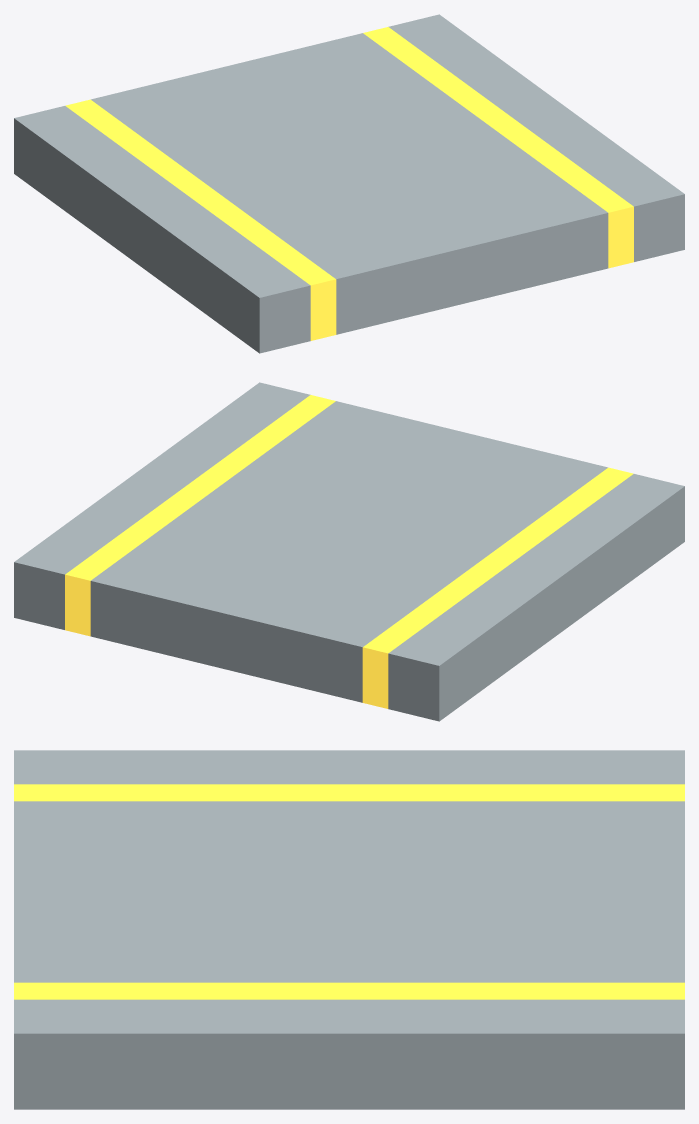
Rendered from SM_PlatformSquare_v0.fbx.
3 views of the same model, one above another, from view 1: azimuth 30°, elevation 25°; view 2: azimuth 150°, elevation 25°; view 3: azimuth 270°, elevation 25° (orthographic). The views are drawn at different scales.
Parts seen in each view (by area): view 1: SM_PlatformSquare_v0; view 2: SM_PlatformSquare_v0; view 3: SM_PlatformSquare_v0.
Part boxes in pixels (x1,y1,x2,y2): SM_PlatformSquare_v0: [14, 14, 684, 353]; SM_PlatformSquare_v0: [14, 382, 684, 721]; SM_PlatformSquare_v0: [14, 750, 684, 1109].
Size of the model in its own units: 1 by 0.125 by 1.
